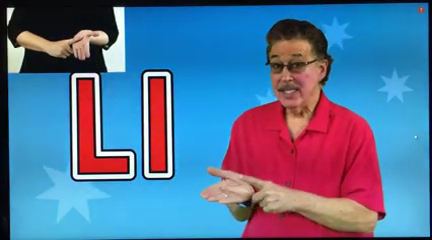L: (193, 160, 316, 222)
